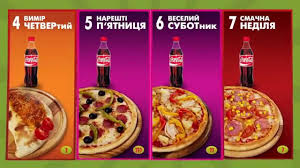coke: (18, 36, 55, 88)
